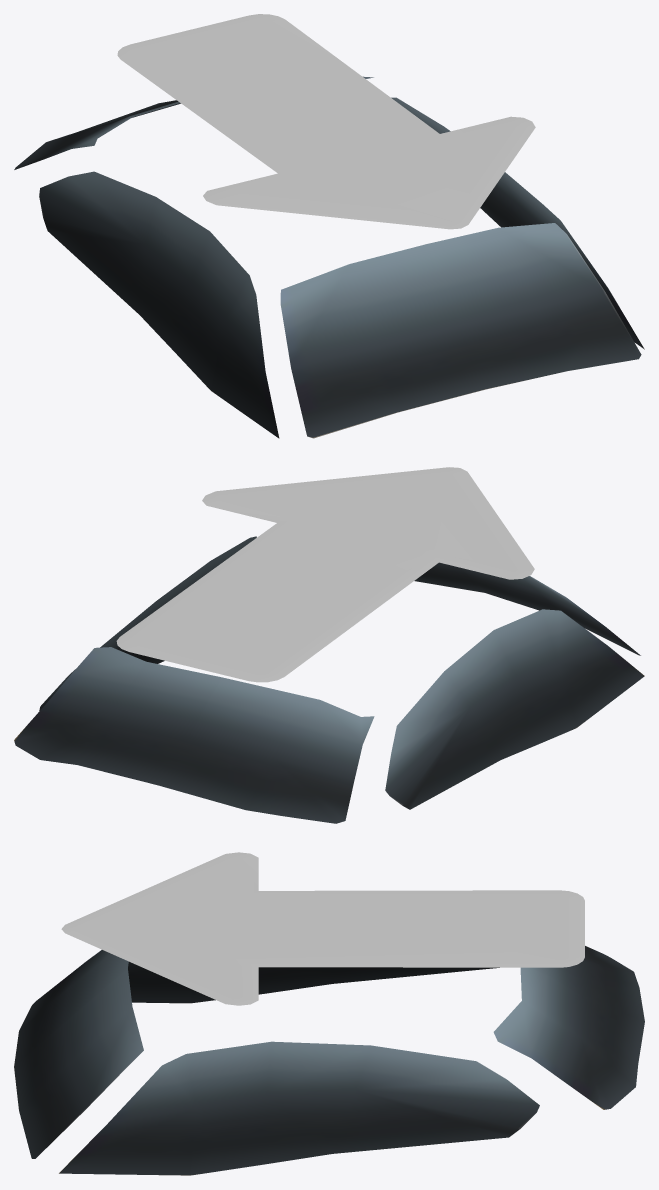
File: car.fbx
The picture shows the model from 3 angles, top to bottom: view 1: azimuth 30°, elevation 25°; view 2: azimuth 150°, elevation 25°; view 3: azimuth 270°, elevation 25°; orthographic projection. The views are drawn at different scales.
Parts seen in each view (by area): view 1: car, Quad; view 2: car, Quad; view 3: car, Quad.
Part boxes in pixels (x1,y1,x2,y2): car: [14, 76, 644, 438]; Quad: [117, 14, 535, 229]; car: [14, 536, 644, 823]; Quad: [116, 467, 534, 682]; car: [14, 946, 644, 1175]; Quad: [61, 852, 584, 1005].
Bounding box in the file's own units: 40.76 × 17.79 × 63.12.
